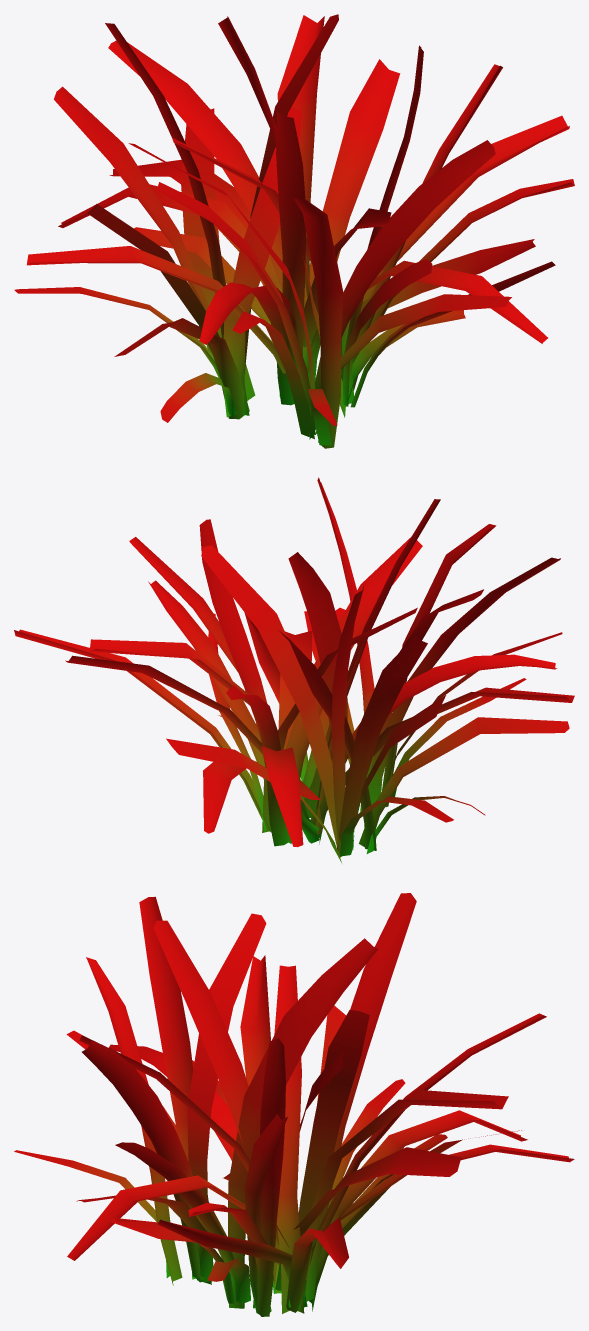
The model's file is Var7_LOD1.fbx.
The picture shows the model from 3 angles, top to bottom: view 1: azimuth 30°, elevation 25°; view 2: azimuth 150°, elevation 25°; view 3: azimuth 270°, elevation 25°; orthographic projection. The views are drawn at different scales.
Visible parts, largest first — view 1: _0a0d_Var7_LOD1; view 2: _0a0d_Var7_LOD1; view 3: _0a0d_Var7_LOD1.
Part boxes in pixels (box(x1,y1,x2,y2)): _0a0d_Var7_LOD1: box(14, 14, 574, 448); _0a0d_Var7_LOD1: box(14, 477, 574, 862); _0a0d_Var7_LOD1: box(14, 893, 574, 1316).
Bounding box in the file's own units: 99.31 × 59.94 × 86.14.
